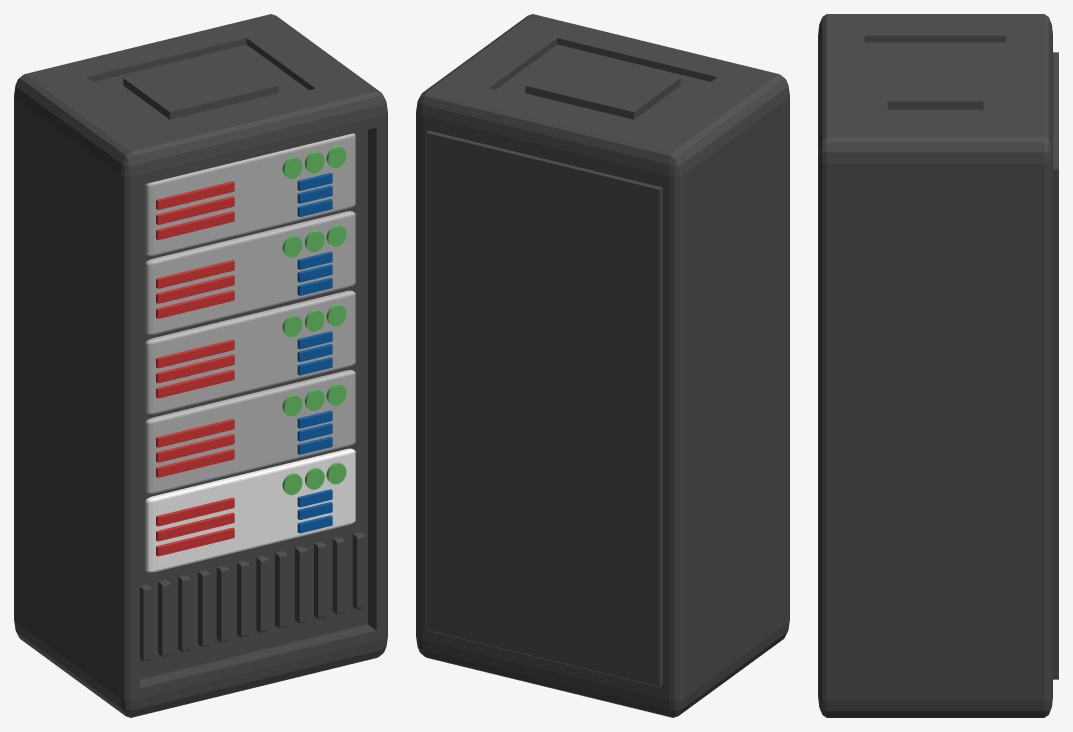
The model's file is servidor.glb.
3 renders of one model, left to right at view 1: azimuth 30°, elevation 25°; view 2: azimuth 150°, elevation 25°; view 3: azimuth 270°, elevation 25°, orthographic. The views are drawn at different scales.
Parts seen in each view (by area): view 1: Soft_Data; view 2: Soft_Data; view 3: Soft_Data.
Boxes of the visible parts, x1,y1,x2,y2 form: Soft_Data: [14, 14, 387, 717]; Soft_Data: [416, 14, 789, 717]; Soft_Data: [818, 14, 1058, 717].
Size of the model in its own units: 1.12 by 2.28 by 0.8558.
